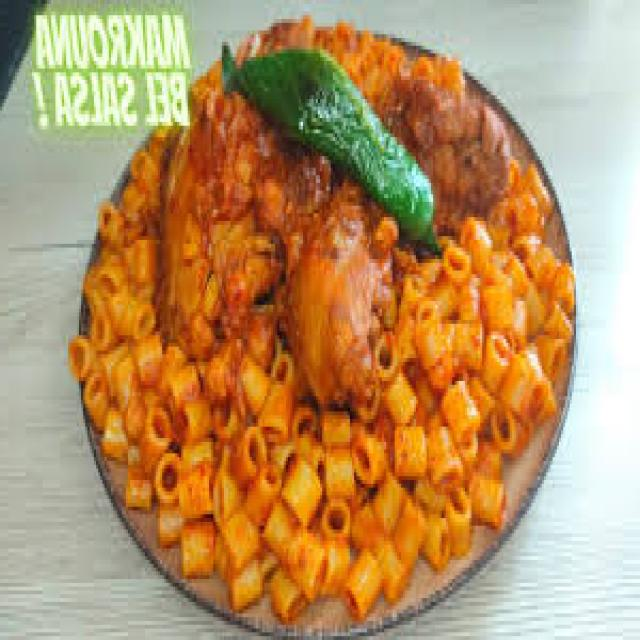Pasta: (188, 13, 566, 564)
